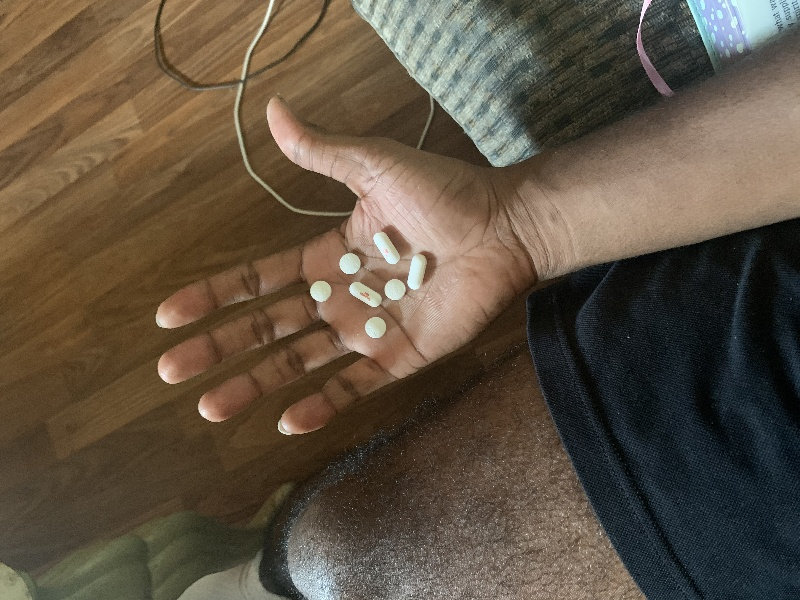Aspirin: (306, 278, 335, 308), (382, 277, 407, 303), (364, 315, 388, 341), (338, 252, 363, 275)
Tylenol: (370, 226, 405, 271), (406, 248, 434, 292), (346, 280, 385, 310)
